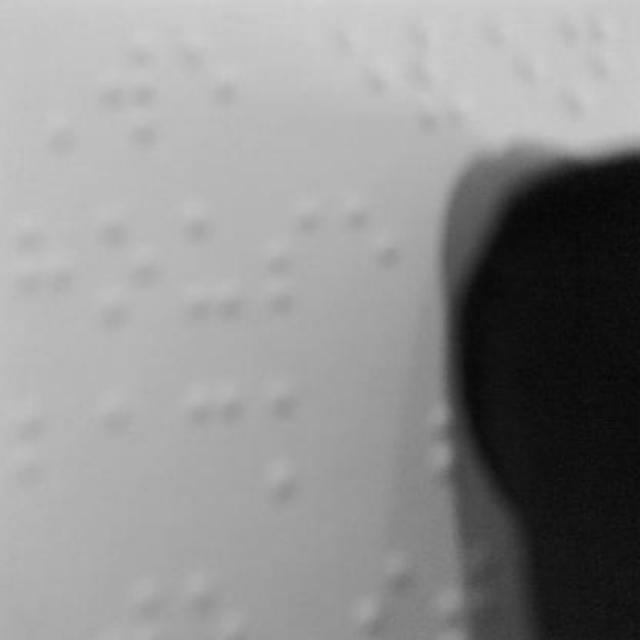braiile: (180, 375, 250, 519), (97, 386, 167, 526), (12, 392, 84, 528), (175, 20, 248, 152), (328, 10, 400, 142), (91, 200, 163, 332), (260, 192, 332, 324), (266, 377, 332, 518), (342, 188, 410, 324), (178, 198, 250, 326), (482, 9, 554, 135), (98, 23, 166, 150), (9, 206, 75, 332), (562, 7, 620, 131)
